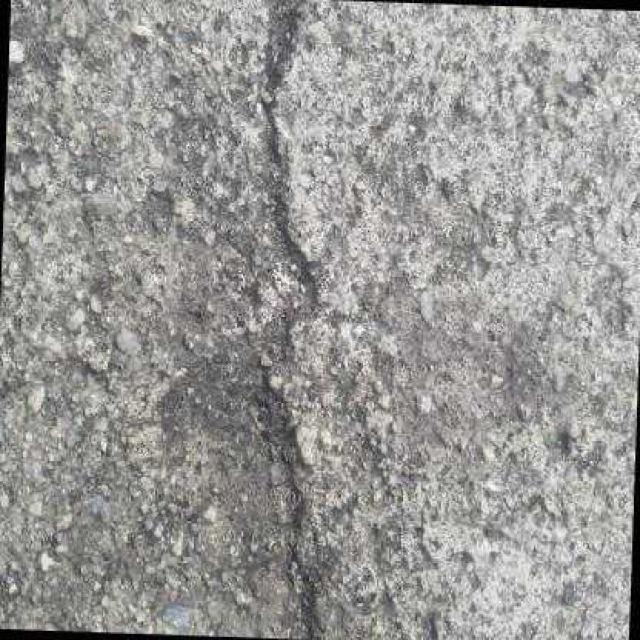D00: (235, 0, 322, 640)
